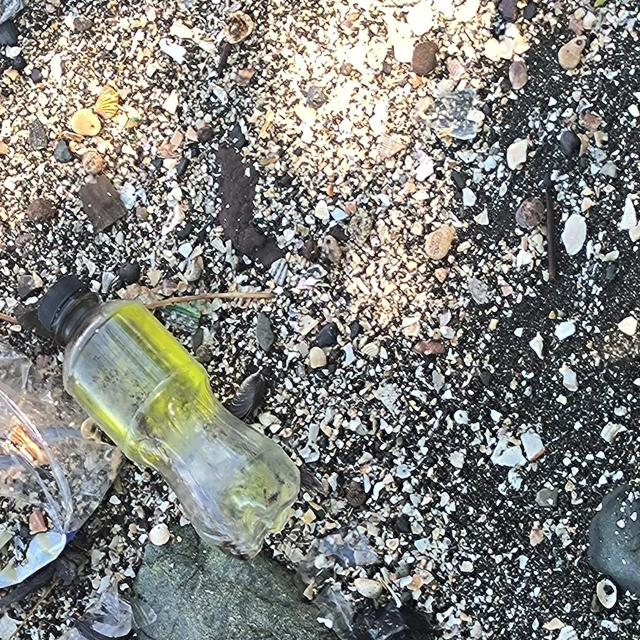plastic_waste: (37, 272, 303, 563)
